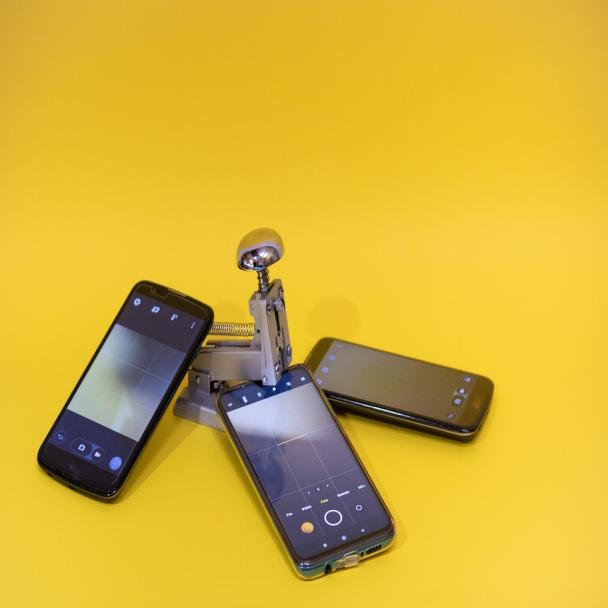Handphone: (32, 274, 215, 505), (213, 358, 401, 582), (296, 329, 496, 438)
